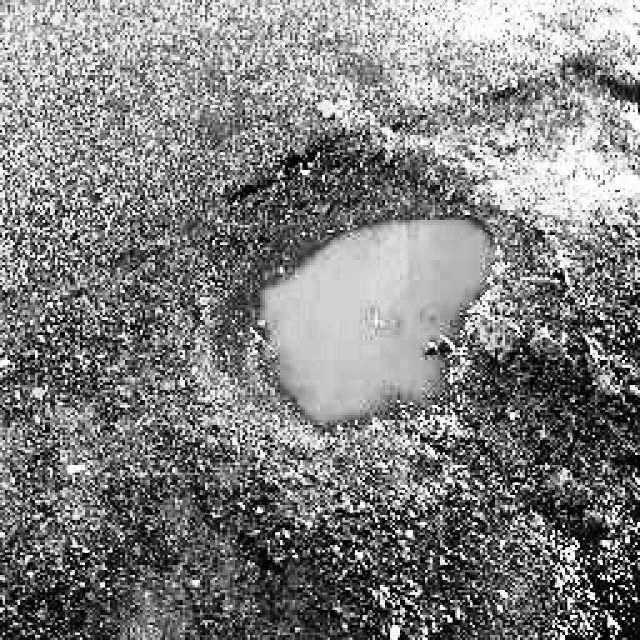Pothole: (211, 148, 528, 465)
